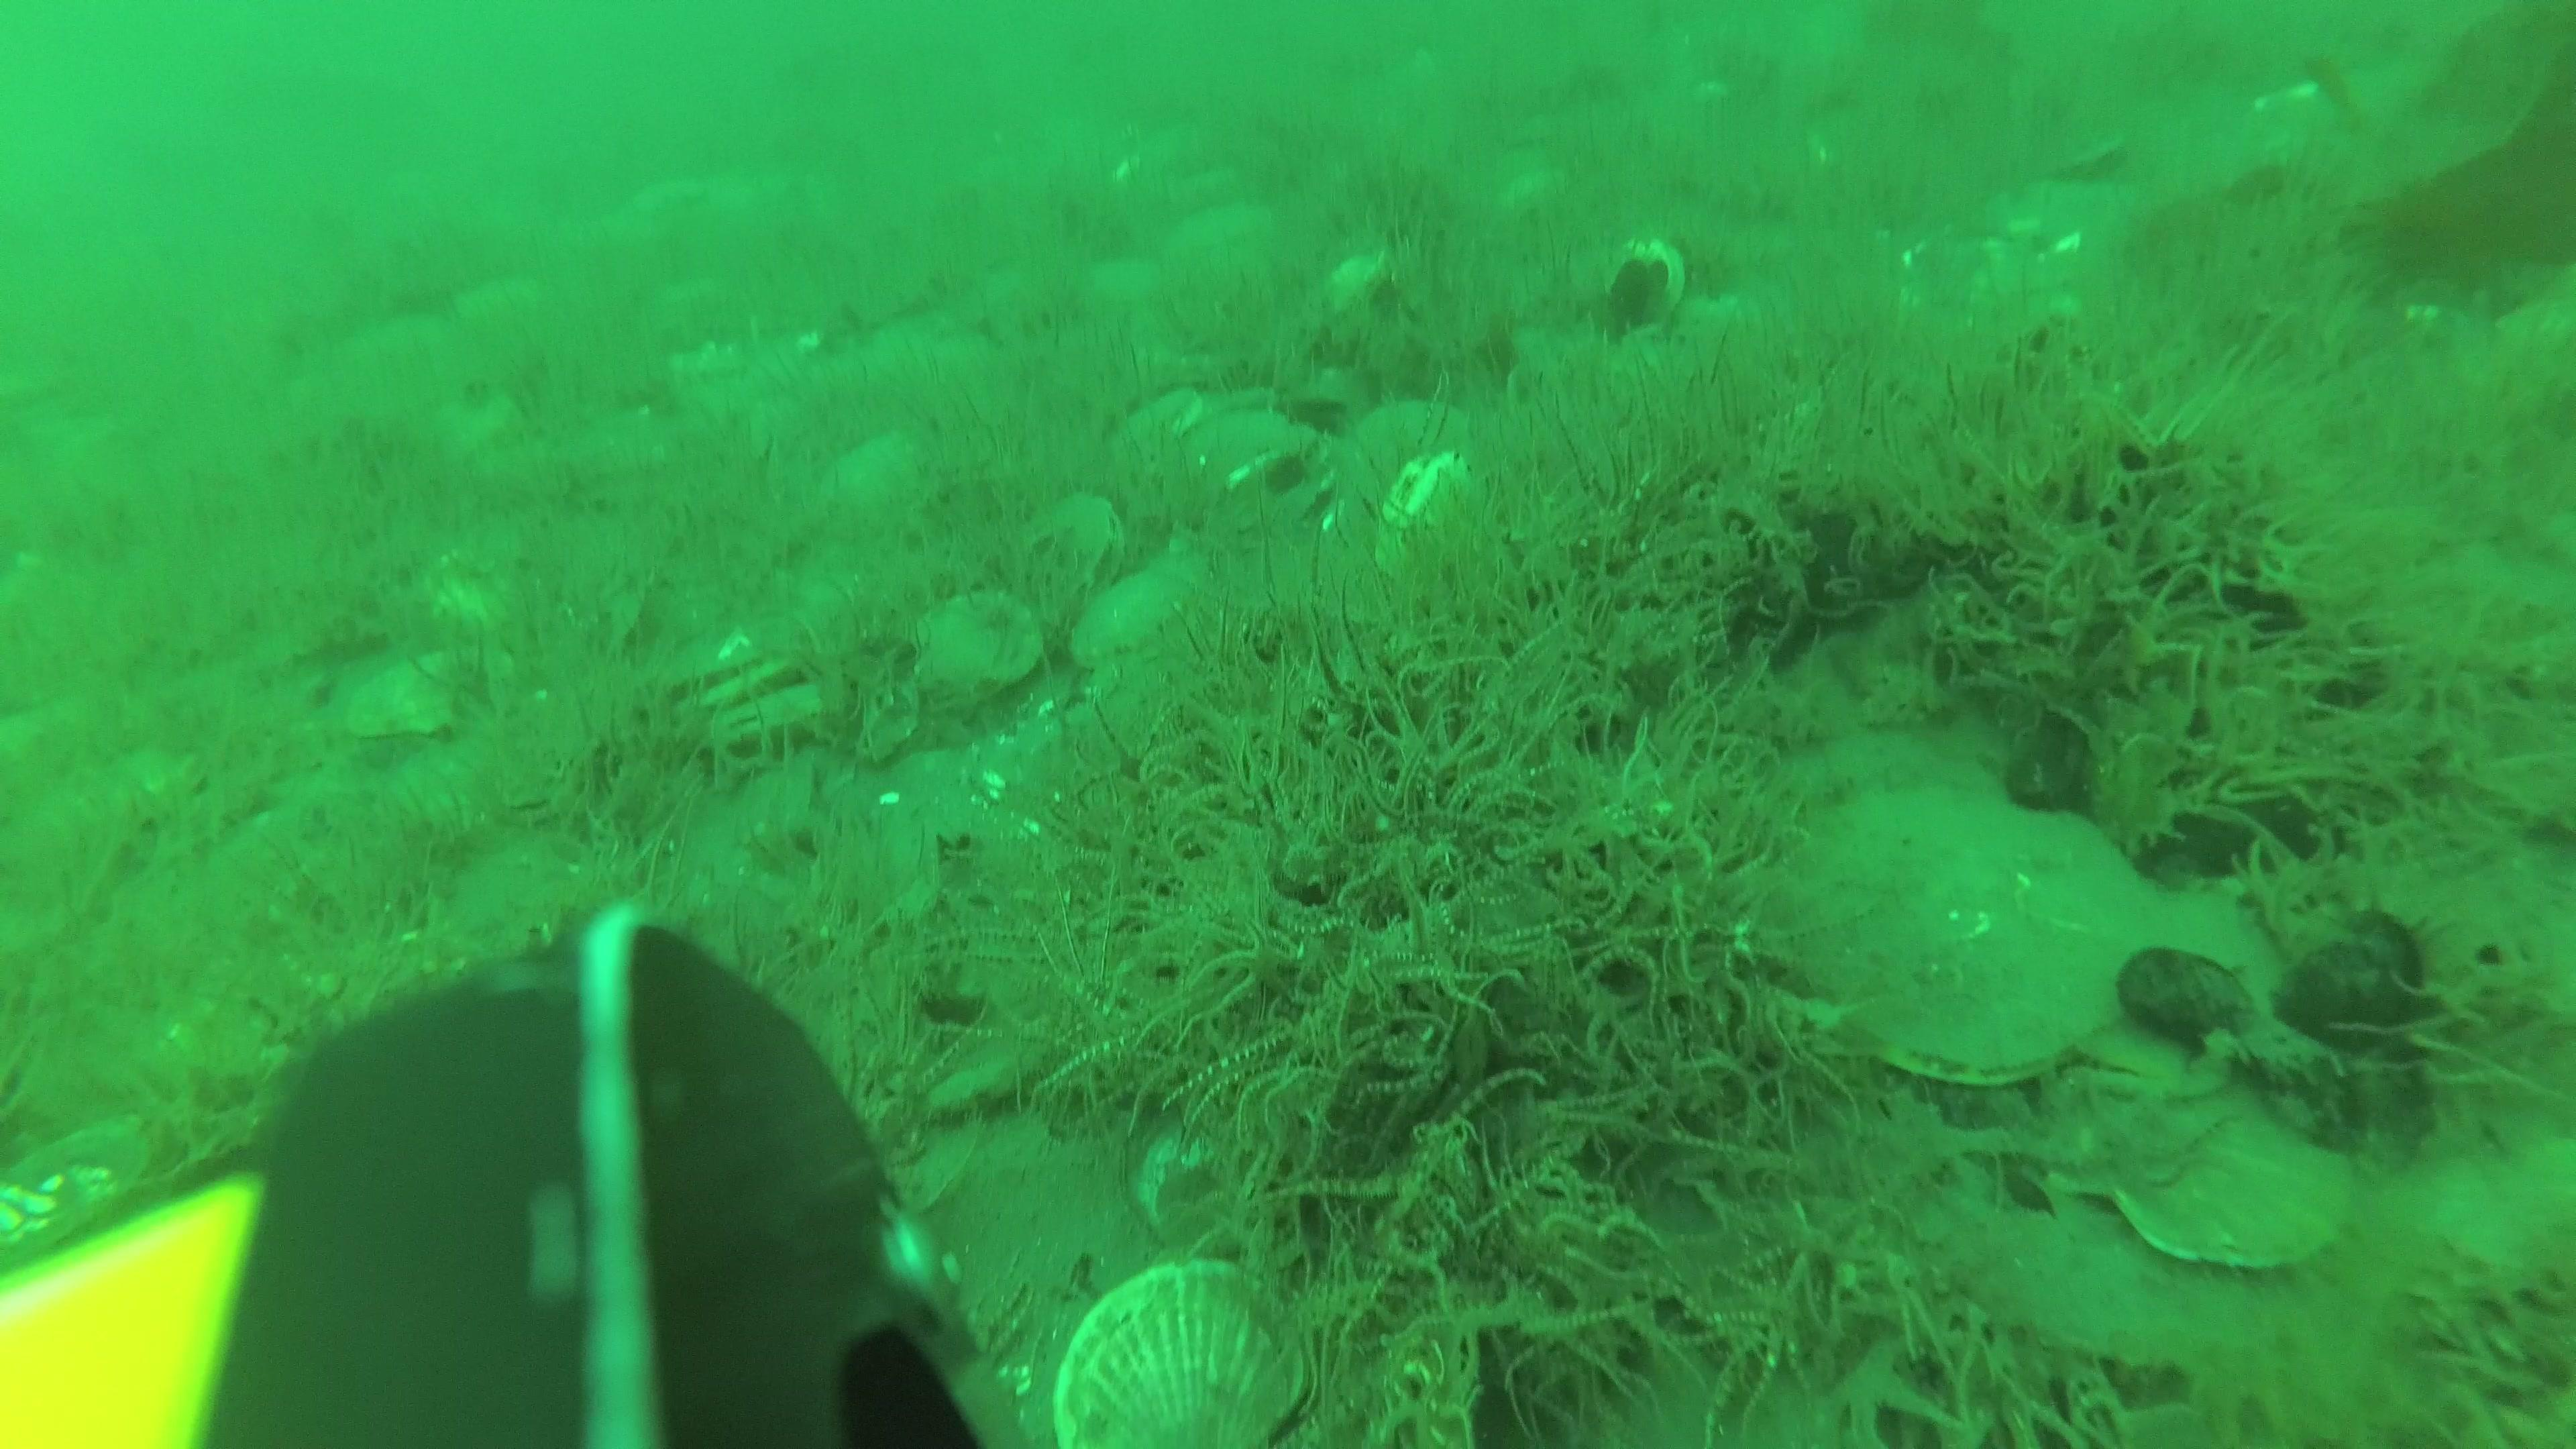scallop: (1776, 800, 2160, 1072), (2128, 1065, 2367, 1274), (1060, 1269, 1348, 1435), (2089, 892, 2304, 1090), (2045, 996, 2254, 1161), (1127, 1108, 1302, 1272), (5, 1125, 156, 1256), (350, 649, 511, 747), (908, 600, 1042, 708), (1346, 395, 1484, 497), (1012, 494, 1143, 600), (1079, 552, 1203, 663), (819, 441, 954, 538), (667, 637, 786, 729), (715, 683, 839, 766), (1191, 414, 1315, 495), (1161, 196, 1281, 269), (1108, 393, 1215, 469), (1311, 235, 1401, 326), (1077, 258, 1182, 322)
